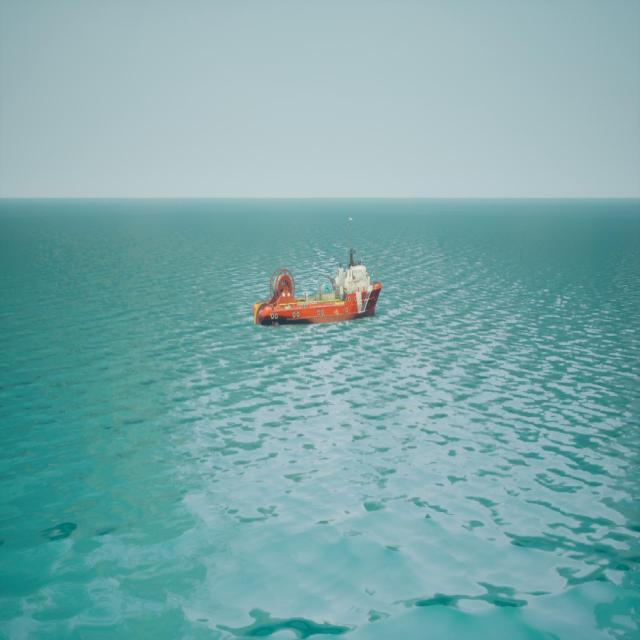tug boat: (254, 223, 384, 329)
